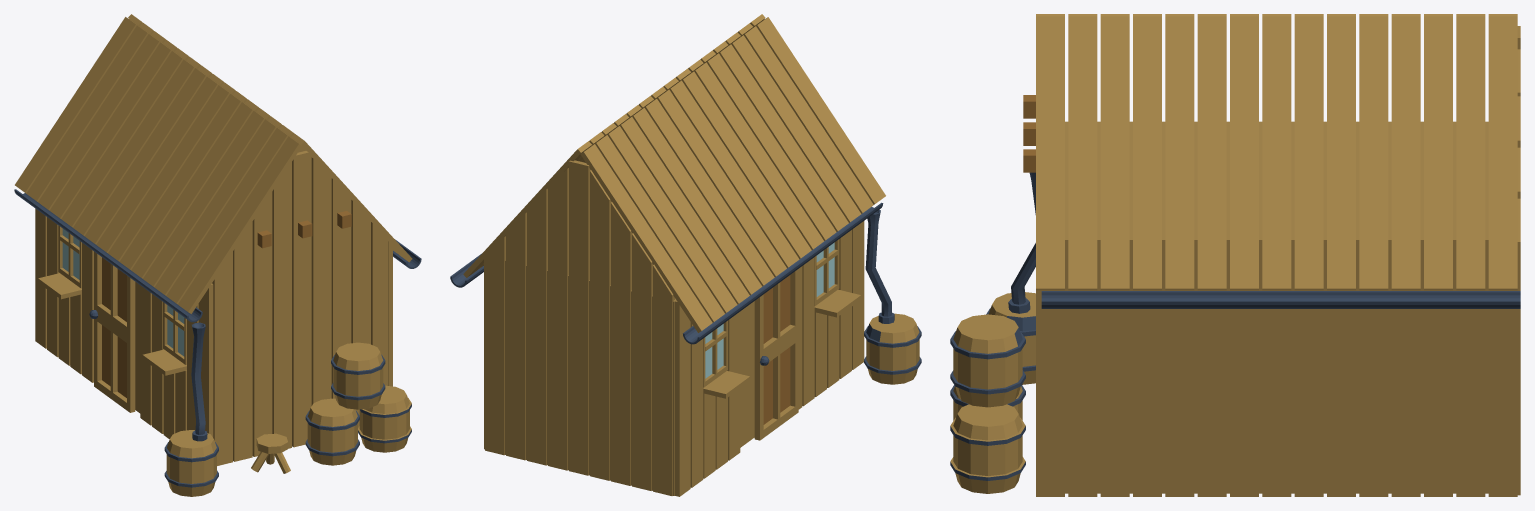
The model's file is shed.fbx.
3 renders of one model, left to right at view 1: azimuth 30°, elevation 25°; view 2: azimuth 150°, elevation 25°; view 3: azimuth 270°, elevation 25°, orthographic. The views are drawn at different scales.
Parts seen in each view (by area): view 1: pCube63, Shedpanel19, Shedpanel18, Shedpanel20, Shedpanel17, Shedpanel16, Shedpanel15, Shedpanel72, Shedpanel21, pCylinder16, Shedpanel70, Shedpanel73 (+38 smaller); view 2: pCube63, Shedpanel86, Shedpanel84, Shedpanel85, Shedpanel79, Shedpanel81, Shedpanel80, Shedpanel82, Shedpanel78, Shedpanel83, pCube56, Shedpanel65 (+33 smaller); view 3: pCube56, pPipe2, Shedpanel50, Shedpanel51, Shedpanel52, Shedpanel53, Shedpanel54, Shedpanel56, Shedpanel58, Shedpanel59, Shedpanel60, Shedpanel61 (+25 smaller).
Boxes of the visible parts, x1,y1,x2,y2 form: pCube63: (94,251,135,412); Shedpanel19: (292,151,311,447); Shedpanel18: (272,162,291,448); Shedpanel20: (311,157,331,405); Shedpanel17: (252,192,272,456); Shedpanel16: (233,222,252,461); Shedpanel15: (212,252,232,465); Shedpanel72: (178,136,301,313); Shedpanel21: (331,178,351,398); pCylinder16: (331,342,385,409); Shedpanel70: (143,111,266,287); Shedpanel73: (26,25,150,201); pCube63: (754,269,798,440); Shedpanel86: (569,160,590,475); Shedpanel84: (590,170,611,480); Shedpanel85: (548,167,568,470); Shedpanel79: (611,202,632,485); Shedpanel81: (527,188,547,465); Shedpanel80: (632,233,652,490); Shedpanel82: (506,212,526,460); Shedpanel78: (653,264,674,495); Shedpanel83: (485,236,505,455); pCube56: (505,260,754,495); Shedpanel65: (580,144,712,332); pCube56: (1065,121,1488,493); pPipe2: (1041,291,1520,308); Shedpanel50: (1488,16,1517,290); Shedpanel51: (1359,16,1388,290); Shedpanel52: (1294,16,1323,290); Shedpanel53: (1197,16,1226,290); Shedpanel54: (1262,16,1291,290); Shedpanel56: (1165,16,1194,290); Shedpanel58: (1456,16,1485,290); Shedpanel59: (1068,16,1097,290); Shedpanel60: (1391,16,1420,290); Shedpanel61: (1100,16,1129,290).
Size of the model in its own units: 5.85 by 6.74 by 8.
